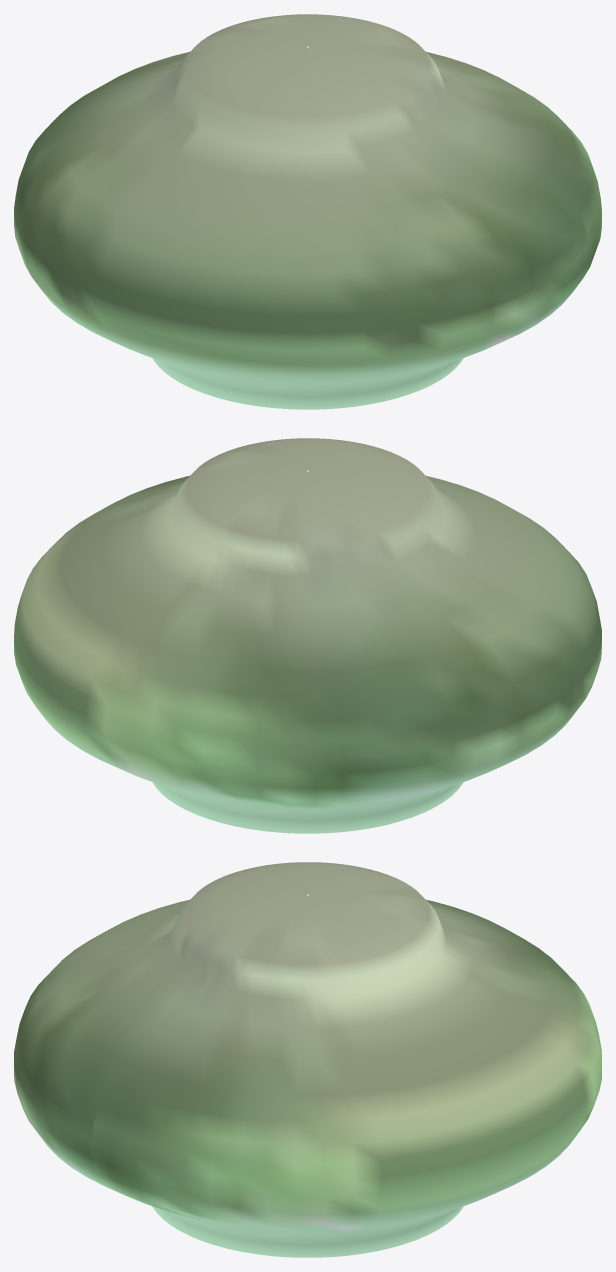
File: bush-3.glb
3 views of the same model, one above another, from view 1: azimuth 30°, elevation 25°; view 2: azimuth 150°, elevation 25°; view 3: azimuth 270°, elevation 25° (orthographic).
Visible parts, largest first — view 1: bush-3; view 2: bush-3; view 3: bush-3.
Boxes of the visible parts, x1,y1,x2,y2 form: bush-3: [14, 14, 601, 409]; bush-3: [14, 438, 601, 833]; bush-3: [14, 862, 601, 1257].
Bounding box in the file's own units: 0.5537 × 0.3065 × 0.5537.
